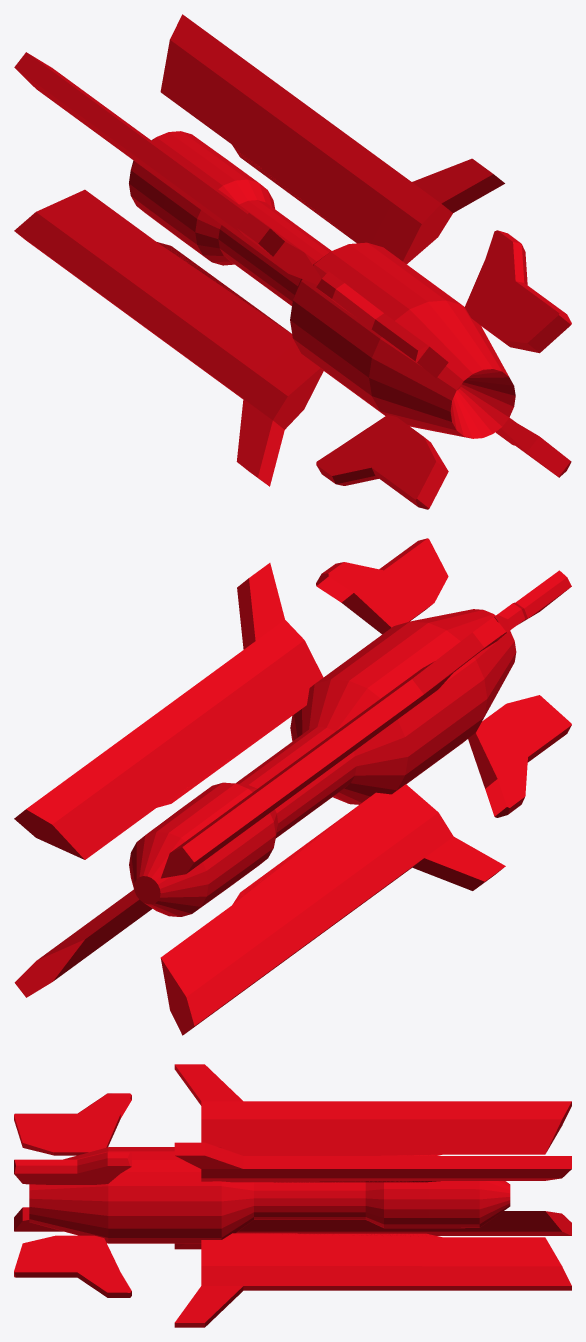
Rendered from Biggun.fbx.
3 renders of one model, top to bottom at view 1: azimuth 30°, elevation 25°; view 2: azimuth 150°, elevation 25°; view 3: azimuth 270°, elevation 25°, orthographic. The views are drawn at different scales.
Visible parts, largest first — view 1: Cylinder; view 2: Cylinder; view 3: Cylinder.
Boxes of the visible parts, x1=… form: Cylinder: x1=14, y1=14, x2=571, y2=509; Cylinder: x1=14, y1=538, x2=571, y2=1035; Cylinder: x1=14, y1=1064, x2=571, y2=1327.
Size of the model in its own units: 87.43 by 87.4 by 238.
